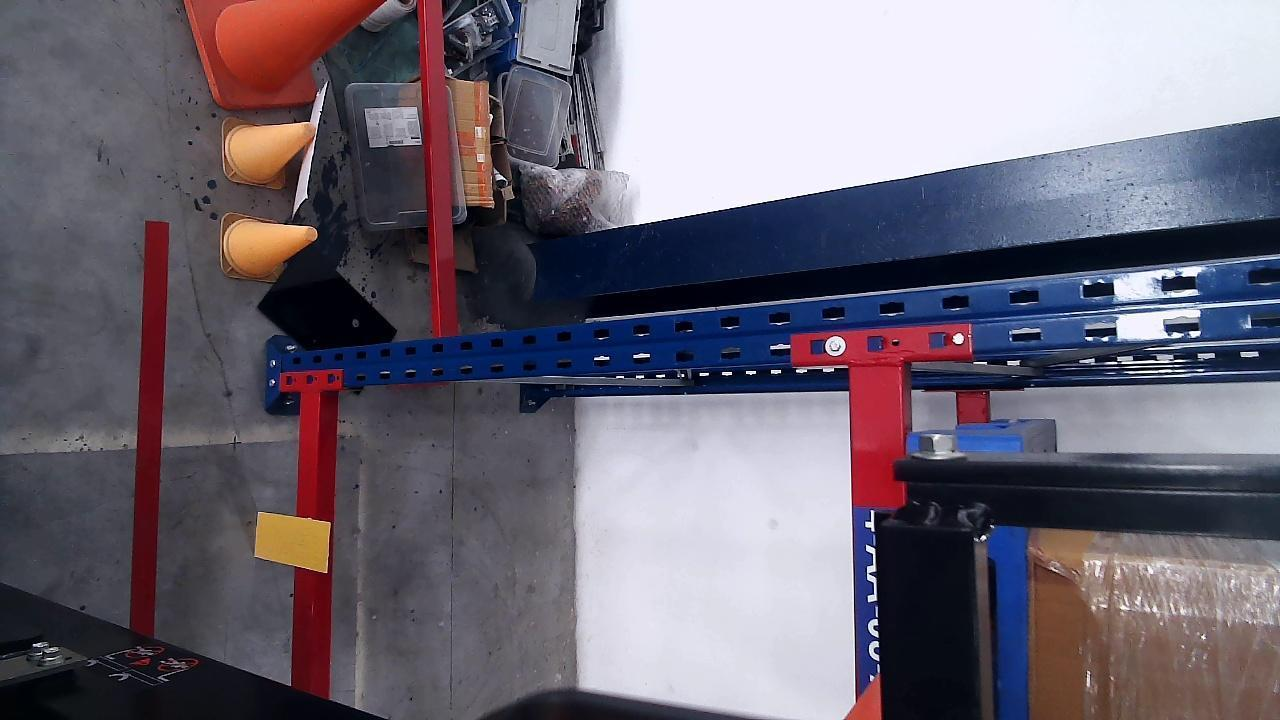red_line: (129, 221, 168, 639)
